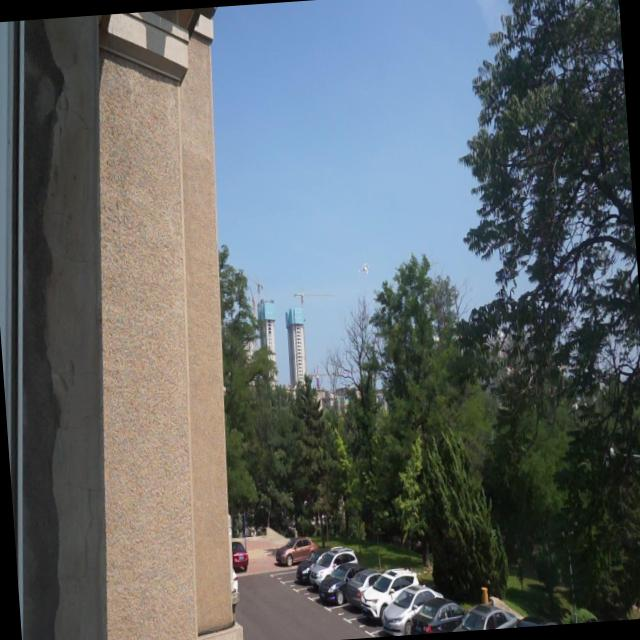drone: (357, 260, 371, 278)
